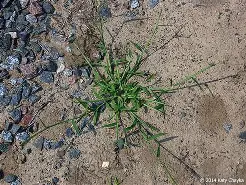weed: (57, 13, 188, 159)
